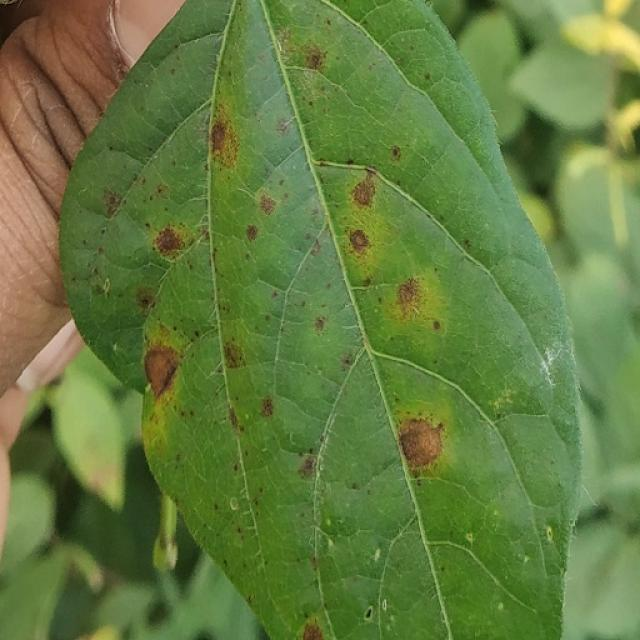Anthracnose: (337, 175, 401, 279), (220, 314, 295, 397), (388, 393, 454, 476), (381, 413, 463, 470), (141, 315, 191, 408), (384, 271, 446, 332), (140, 384, 176, 462), (152, 216, 205, 263), (210, 112, 241, 172), (281, 32, 327, 71), (395, 277, 426, 313), (351, 174, 377, 208), (89, 269, 113, 301), (102, 189, 123, 217), (492, 388, 518, 410), (223, 341, 244, 368), (210, 122, 228, 153), (135, 286, 158, 310), (300, 614, 324, 637), (348, 229, 370, 252), (298, 454, 317, 479), (258, 193, 277, 216), (275, 117, 292, 135), (276, 26, 292, 45), (340, 352, 354, 371), (228, 408, 239, 431), (245, 224, 259, 242), (310, 240, 323, 257), (314, 316, 326, 333), (391, 145, 402, 160)
Blackgram: (61, 0, 580, 639)
